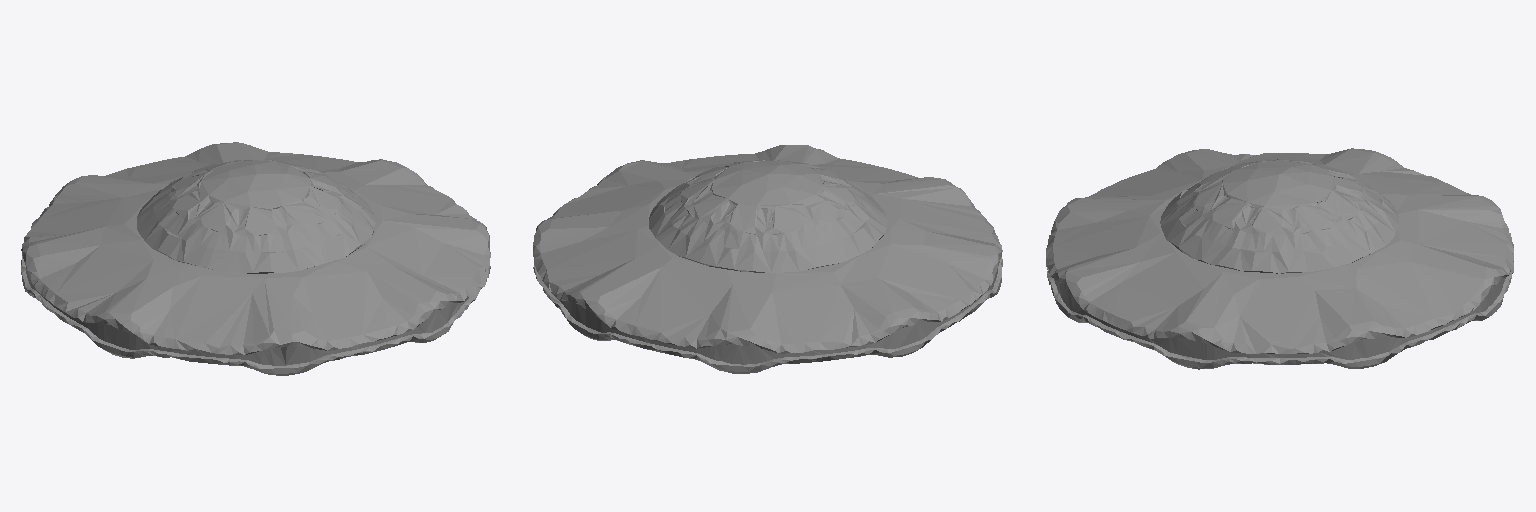
File: frame_098.obj
The picture shows the model from 3 angles: view 1: azimuth 30°, elevation 25°; view 2: azimuth 150°, elevation 25°; view 3: azimuth 270°, elevation 25°; orthographic projection.
Visible parts, largest first — view 1: 13884_UFO_Saucer_v1_l2; view 2: 13884_UFO_Saucer_v1_l2; view 3: 13884_UFO_Saucer_v1_l2.
Part boxes in pixels (x1,y1,x2,y2): 13884_UFO_Saucer_v1_l2: (21,142,490,375); 13884_UFO_Saucer_v1_l2: (533,145,1002,373); 13884_UFO_Saucer_v1_l2: (1046,148,1513,369).
Size of the model in its own units: 12.69 by 4.88 by 12.7.